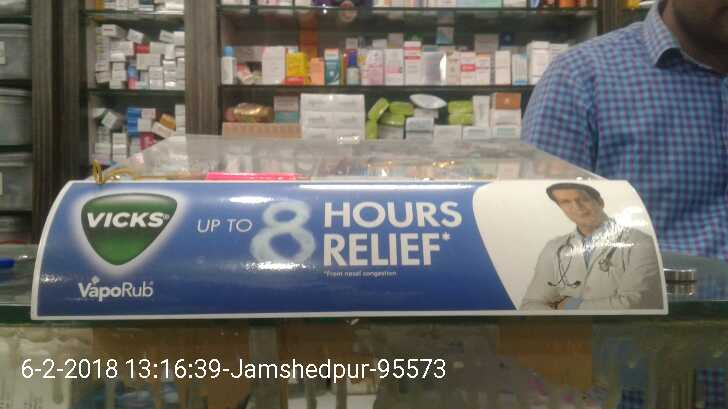reject: (259, 54, 400, 138)
